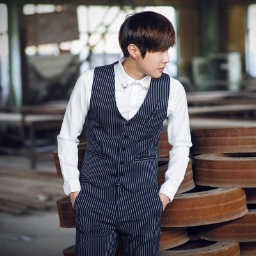face: (117, 11, 176, 82)
